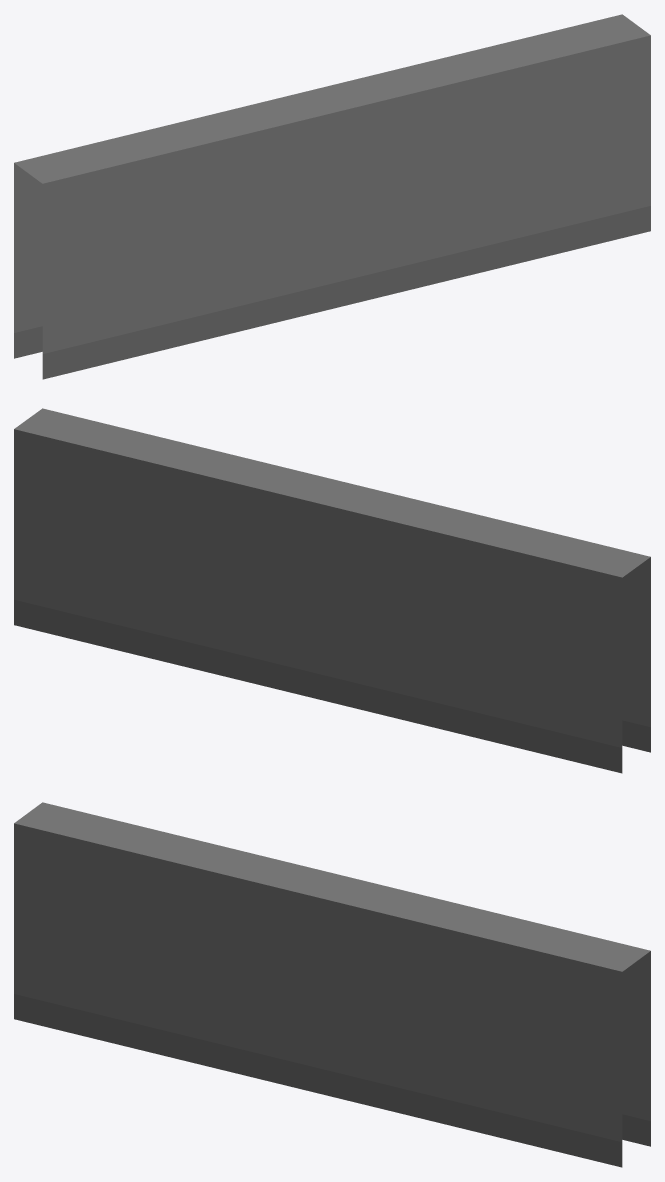
The model's file is SM_FloorProps_Fence_02.fbx.
The picture shows the model from 3 angles, top to bottom: view 1: azimuth 30°, elevation 25°; view 2: azimuth 150°, elevation 25°; view 3: azimuth 330°, elevation 25°; orthographic projection.
Parts seen in each view (by area): view 1: SM_FloorProps_Fence_02; view 2: SM_FloorProps_Fence_02; view 3: SM_FloorProps_Fence_02.
Part boxes in pixels (<box>): SM_FloorProps_Fence_02: <box>14,14,650,379</box>; SM_FloorProps_Fence_02: <box>14,408,650,773</box>; SM_FloorProps_Fence_02: <box>14,802,650,1167</box>.
Size of the model in its own units: 2.5 by 0.7695 by 0.2033.
